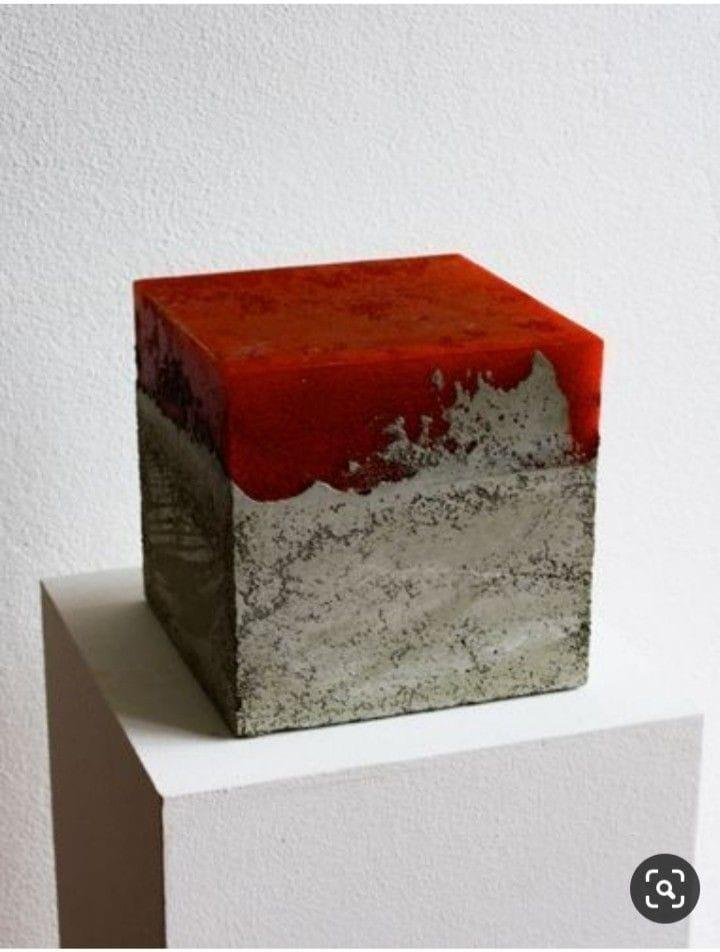cubos: (115, 240, 622, 753)
